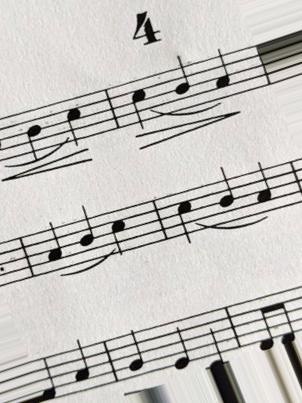A: (65, 338, 99, 392), (42, 219, 71, 268), (250, 162, 277, 211), (211, 47, 234, 96)
B: (211, 167, 242, 221), (70, 202, 99, 258), (171, 53, 196, 107), (21, 113, 47, 161)
E: (163, 325, 195, 371)
G: (120, 327, 148, 381)
HC: (106, 214, 134, 262), (127, 82, 152, 131), (63, 99, 86, 147), (176, 196, 198, 246)
